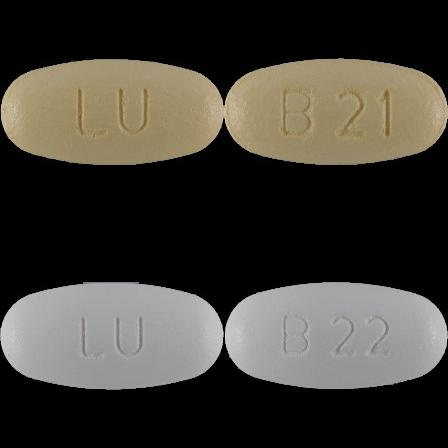68084-635: (0, 0, 224, 224)
